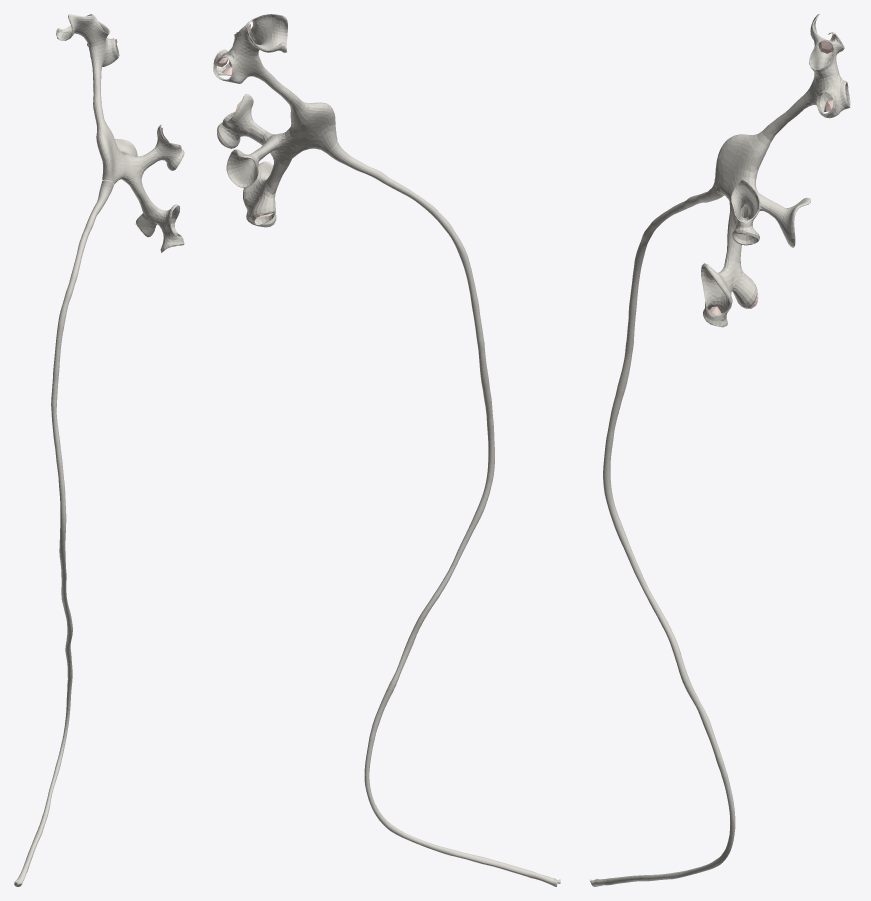
File: VH_F_Ureter_L_0.4.glb
3 views of the same model, side by side, from view 1: azimuth 30°, elevation 25°; view 2: azimuth 150°, elevation 25°; view 3: azimuth 270°, elevation 25° (orthographic). The views are drawn at different scales.
Visible parts, largest first — view 1: VH_F_left_ureter, VH_F_renal_pelvis_L, VH_F_minor_calyx_L_a, VH_F_major_calyx_L_a, VH_F_minor_calyx_L_h, VH_F_major_calyx_L_d, VH_F_major_calyx_L_c, VH_F_minor_calyx_L_f; view 2: VH_F_left_ureter, VH_F_renal_pelvis_L, VH_F_minor_calyx_L_a, VH_F_minor_calyx_L_e, VH_F_minor_calyx_L_c, VH_F_minor_calyx_L_f; view 3: VH_F_left_ureter, VH_F_renal_pelvis_L, VH_F_minor_calyx_L_h, VH_F_minor_calyx_L_f, VH_F_major_calyx_L_a, VH_F_minor_calyx_L_a, VH_F_minor_calyx_L_e, VH_F_minor_calyx_L_i, VH_F_minor_calyx_L_d, VH_F_minor_calyx_L_c, VH_F_major_calyx_L_d, VH_F_minor_calyx_L_b (+1 smaller).
Part boxes in pixels (box(x1,y1,x2,y2)): VH_F_left_ureter: box(14, 180, 113, 886); VH_F_renal_pelvis_L: box(94, 106, 130, 184); VH_F_minor_calyx_L_a: box(56, 14, 99, 48); VH_F_major_calyx_L_a: box(89, 43, 105, 111); VH_F_minor_calyx_L_h: box(151, 204, 183, 242); VH_F_major_calyx_L_d: box(128, 173, 156, 216); VH_F_major_calyx_L_c: box(128, 148, 159, 180); VH_F_minor_calyx_L_f: box(154, 124, 181, 156); VH_F_left_ureter: box(326, 141, 560, 886); VH_F_renal_pelvis_L: box(281, 94, 337, 158); VH_F_minor_calyx_L_a: box(236, 14, 287, 59); VH_F_minor_calyx_L_e: box(226, 149, 259, 187); VH_F_minor_calyx_L_c: box(213, 48, 256, 83); VH_F_minor_calyx_L_f: box(222, 94, 253, 130); VH_F_left_ureter: box(589, 182, 735, 886); VH_F_renal_pelvis_L: box(714, 122, 778, 214); VH_F_minor_calyx_L_h: box(701, 263, 736, 320); VH_F_minor_calyx_L_f: box(731, 179, 760, 227); VH_F_major_calyx_L_a: box(773, 76, 823, 131); VH_F_minor_calyx_L_a: box(810, 14, 844, 69); VH_F_minor_calyx_L_e: box(777, 197, 810, 247); VH_F_minor_calyx_L_i: box(732, 267, 757, 308); VH_F_minor_calyx_L_d: box(816, 74, 838, 117); VH_F_minor_calyx_L_c: box(816, 73, 850, 118); VH_F_major_calyx_L_d: box(724, 202, 743, 267); VH_F_minor_calyx_L_b: box(809, 39, 838, 79).
Size of the model in its own units: 0.0825 by 0.266 by 0.0672.
